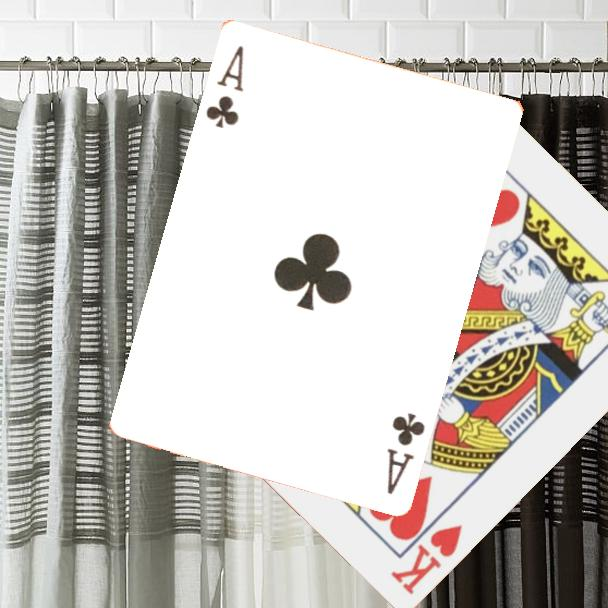c01: (202, 41, 247, 130), (383, 408, 428, 497)
h13: (387, 521, 466, 599)
